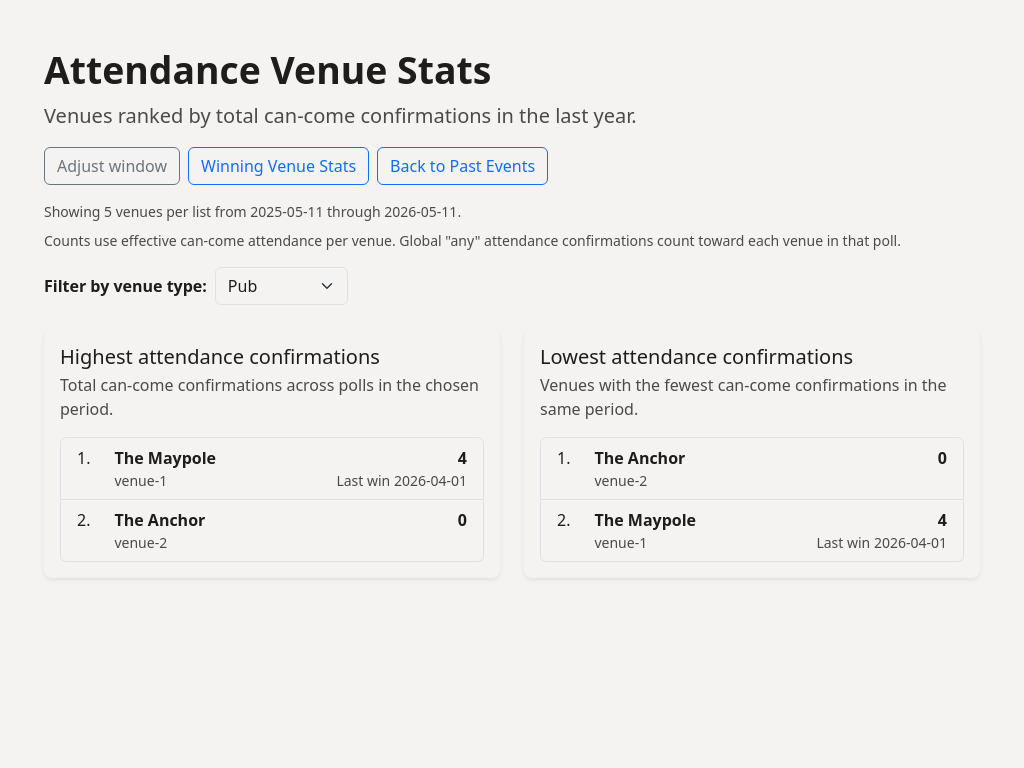
Test: AttendanceVenueStatsPage › defaults to pub venues and can switch to all types
Expected: the text "The Maypole" below "Highest attendance confirmations" is shown, x1=114 y1=447 x2=216 y2=469
Expected: the text "Bistro 12" is not shown
Select "All Types" in the dropdown labelled "Filter by venue type:" at (281, 286), box x1=215 y1=267 x2=348 y2=305
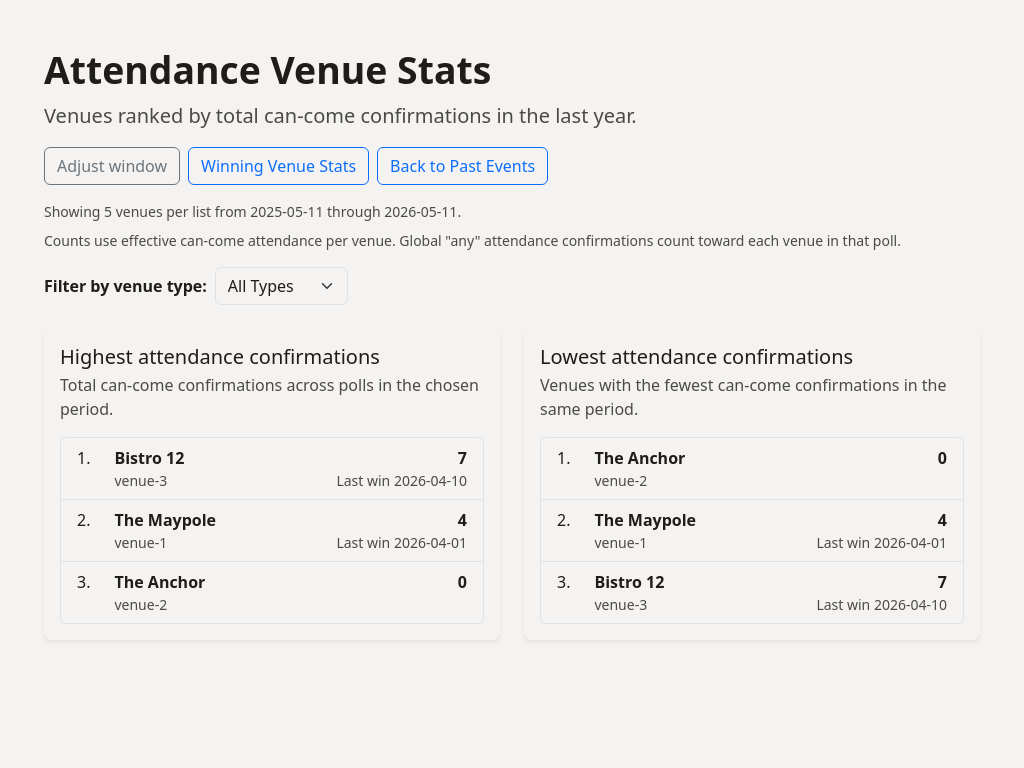
Expected: the text "Bistro 12" below "Highest attendance confirmations" is shown, x1=114 y1=447 x2=184 y2=469
